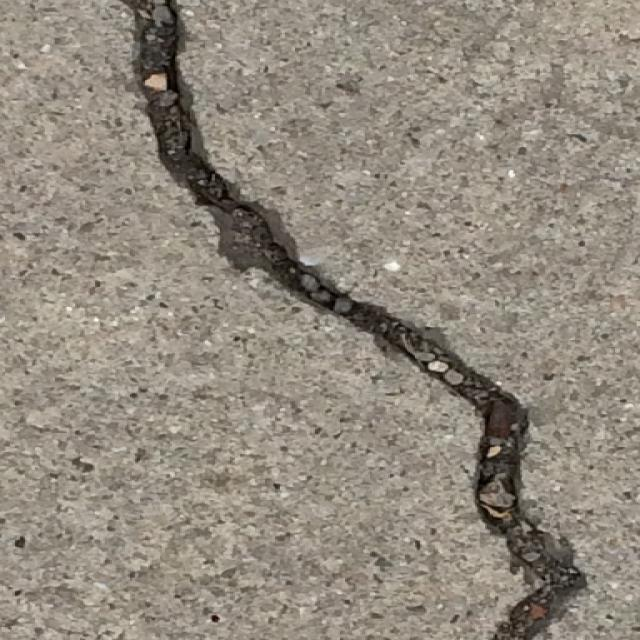Diagonal: (119, 0, 586, 640)
